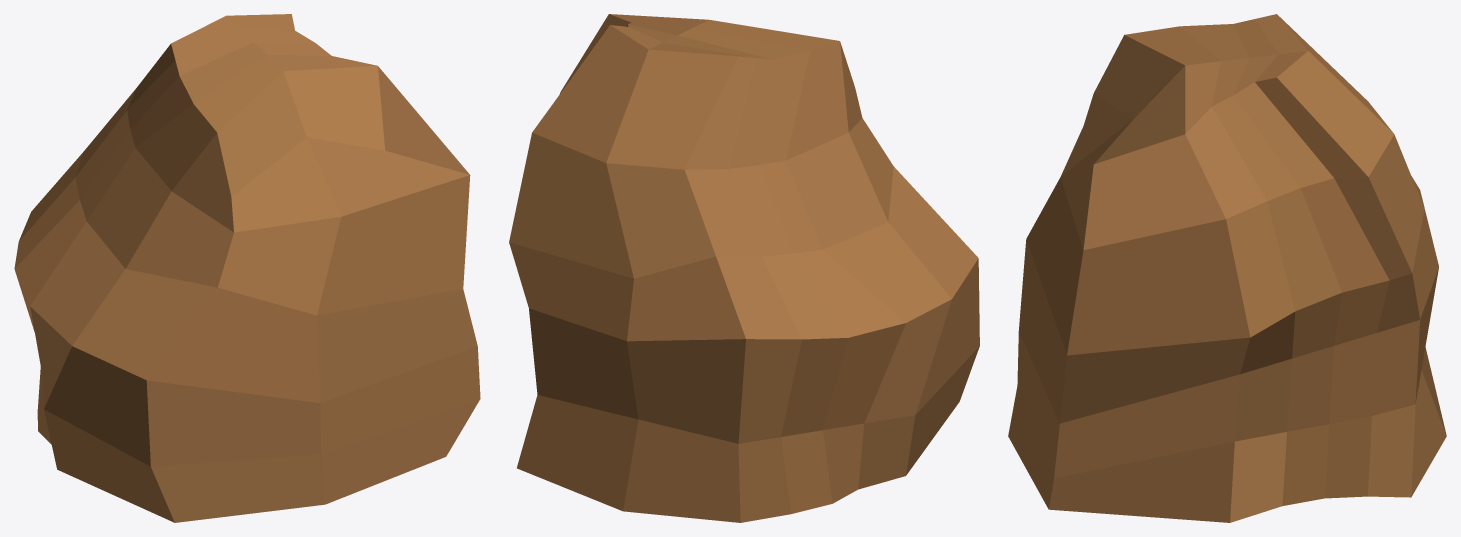
The model's file is Medium_Rock_0.5,0.5,0.5_v02_Colored.fbx.
3 renders of one model, left to right at view 1: azimuth 30°, elevation 25°; view 2: azimuth 150°, elevation 25°; view 3: azimuth 270°, elevation 25°, orthographic. The views are drawn at different scales.
Parts seen in each view (by area): view 1: Medium_Rock_0_5_0_5_0_5_v02; view 2: Medium_Rock_0_5_0_5_0_5_v02; view 3: Medium_Rock_0_5_0_5_0_5_v02.
Part boxes in pixels (x1,y1,x2,y2): Medium_Rock_0_5_0_5_0_5_v02: [14, 14, 480, 522]; Medium_Rock_0_5_0_5_0_5_v02: [509, 14, 979, 522]; Medium_Rock_0_5_0_5_0_5_v02: [1008, 14, 1446, 522].
Size of the model in its own units: 49.57 by 48.6 by 47.52.
